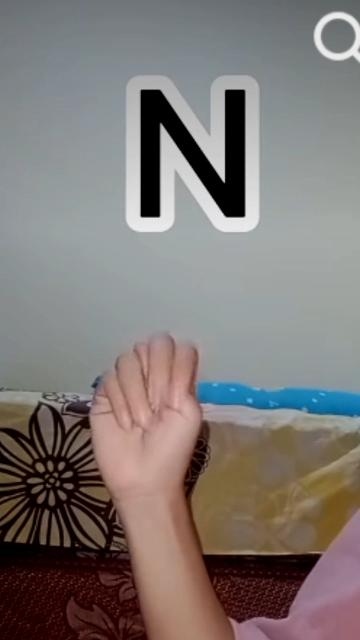N: (84, 329, 206, 483)
